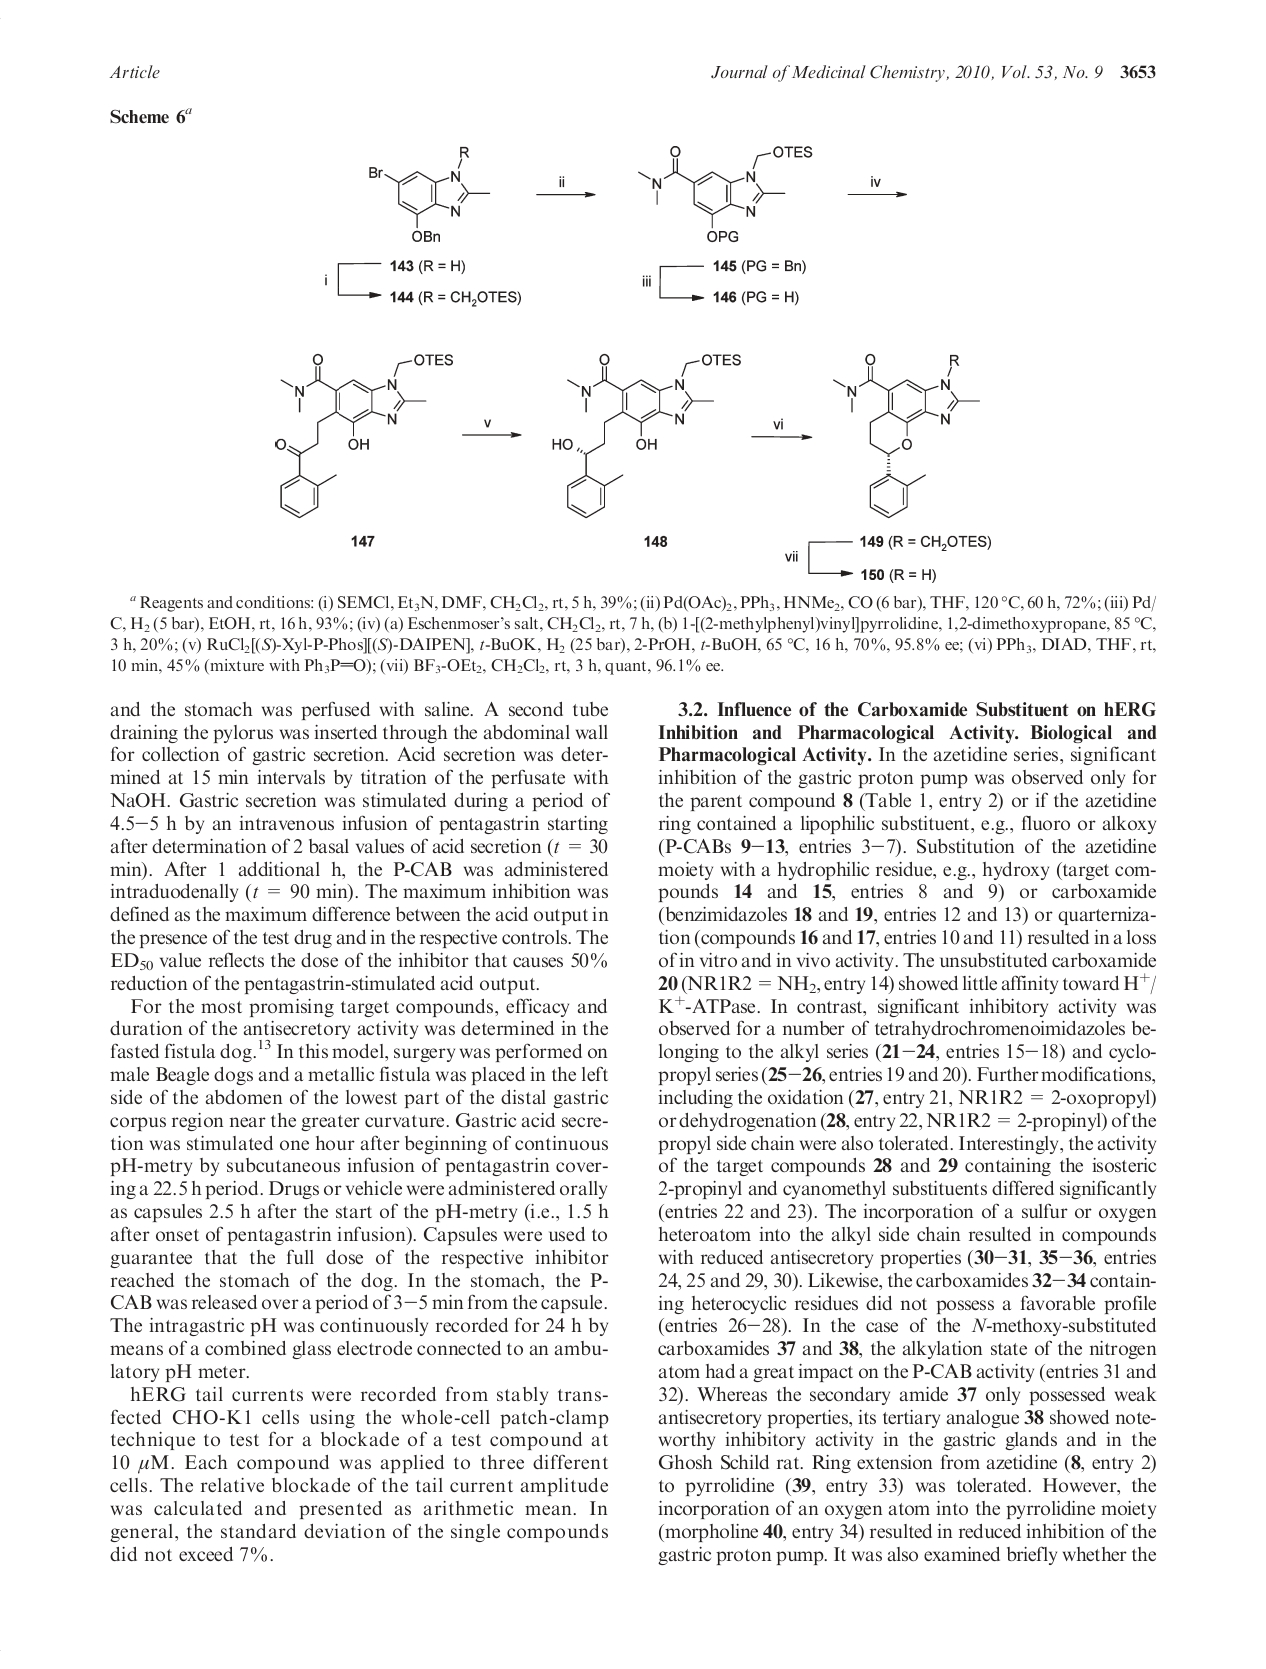exist_molecular: (553, 344, 751, 525), (274, 346, 461, 525), (827, 344, 983, 519), (636, 133, 822, 246), (367, 140, 497, 249)
